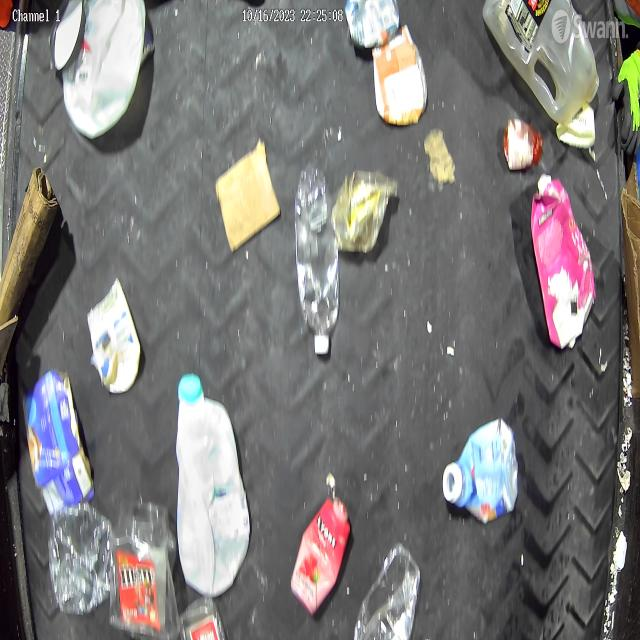can: (344, 0, 399, 49)
milk_jug: (173, 380, 250, 599), (63, 1, 148, 137)
non_white_jug: (482, 0, 600, 123), (532, 169, 596, 346)
plastic_bottle: (292, 163, 340, 351), (352, 541, 422, 640)
